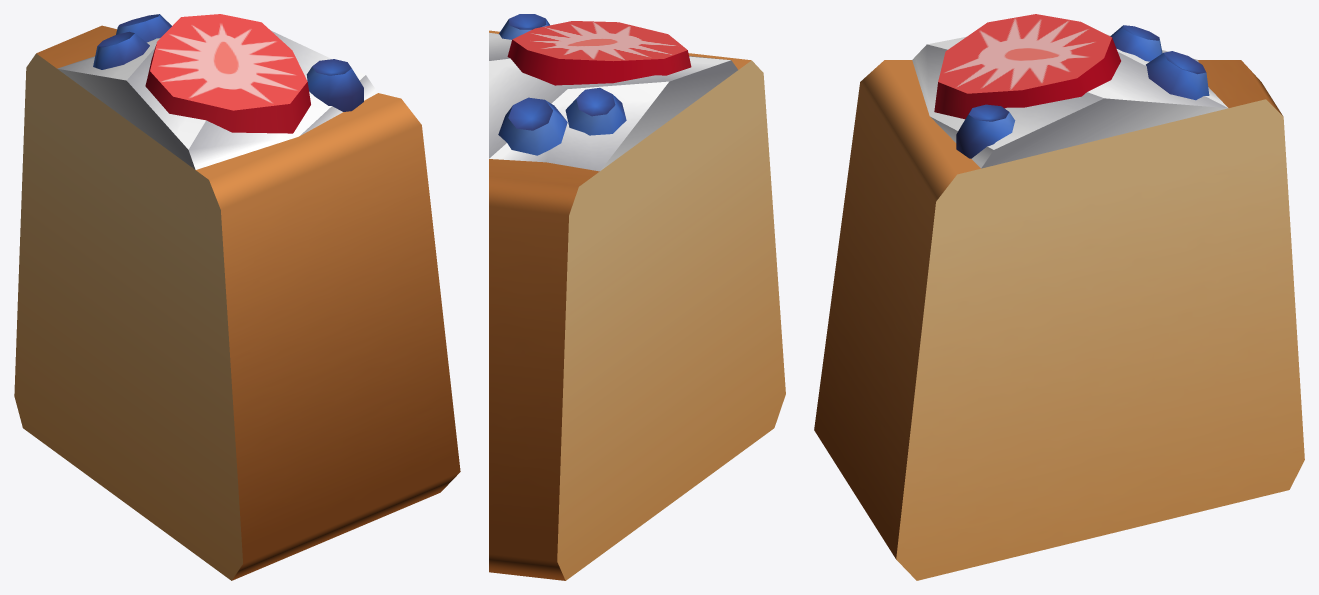
The model's file is m_AngelFoodCake02_Slice.fbx.
3 views of the same model, side by side, from view 1: azimuth 30°, elevation 25°; view 2: azimuth 150°, elevation 25°; view 3: azimuth 270°, elevation 25° (orthographic). The views are drawn at different scales.
Parts seen in each view (by area): view 1: m_AngelFoodCake02_Slice; view 2: m_AngelFoodCake02_Slice; view 3: m_AngelFoodCake02_Slice.
Part boxes in pixels (bbox=[...]): m_AngelFoodCake02_Slice: bbox=[14, 14, 460, 580]; m_AngelFoodCake02_Slice: bbox=[489, 14, 785, 580]; m_AngelFoodCake02_Slice: bbox=[814, 14, 1304, 580].
Bounding box in the file's own units: 6.3 × 10.45 × 10.09.
